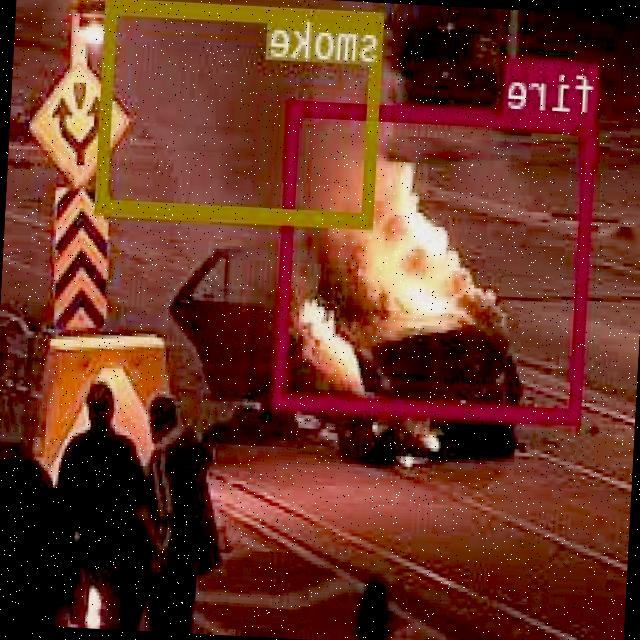fire: (274, 98, 598, 420)
smoke: (97, 0, 386, 226)
